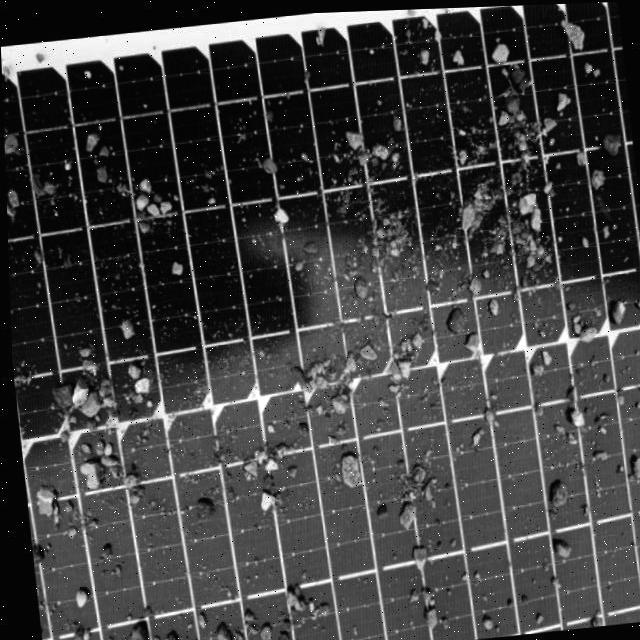Surface Contaminant: (1, 1, 640, 640)
